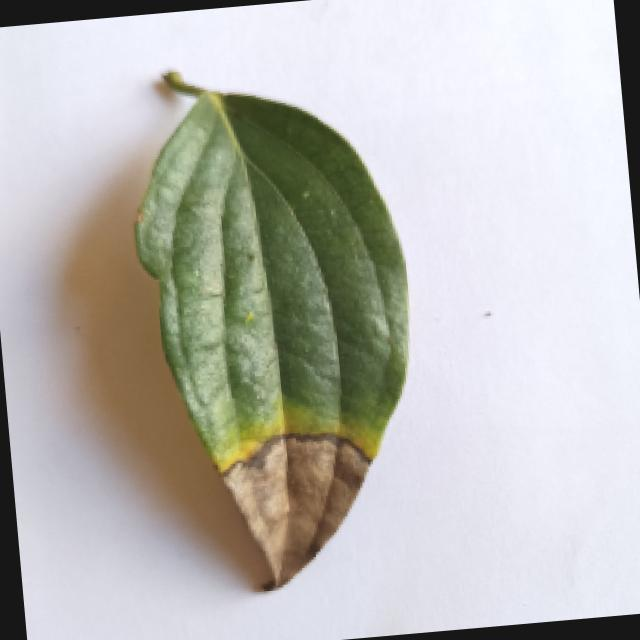footrot: (91, 55, 440, 600)
